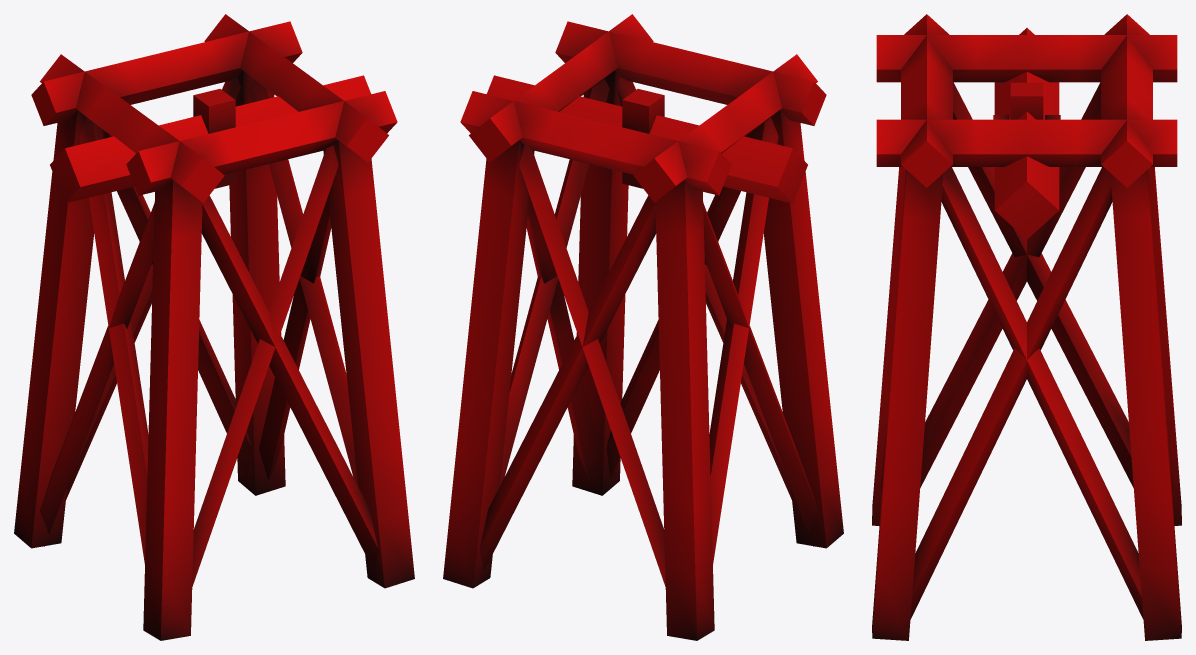
File: Wooden_Beams_export.obj
3 views of the same model, side by side, from view 1: azimuth 30°, elevation 25°; view 2: azimuth 150°, elevation 25°; view 3: azimuth 270°, elevation 25° (orthographic). The views are drawn at different scales.
Parts seen in each view (by area): view 1: Wooden_Beams; view 2: Wooden_Beams; view 3: Wooden_Beams.
Part boxes in pixels (bbox=[...]): Wooden_Beams: bbox=[14, 14, 414, 640]; Wooden_Beams: bbox=[443, 14, 843, 640]; Wooden_Beams: bbox=[872, 14, 1181, 640].
Size of the model in its own units: 5.6 by 8.54 by 4.77.
